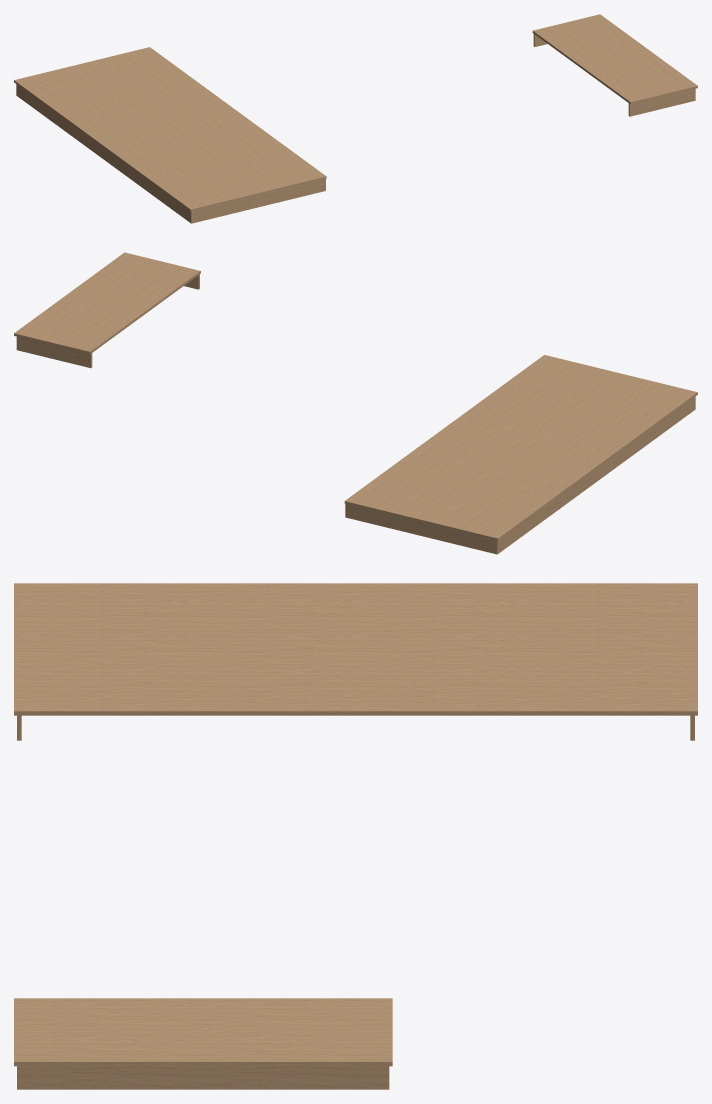
Rendered from Deck.glb.
3 views of the same model, one above another, from view 1: azimuth 30°, elevation 25°; view 2: azimuth 150°, elevation 25°; view 3: azimuth 270°, elevation 25° (orthographic). The views are drawn at different scales.
Parts seen in each view (by area): view 1: Interior_Light_Wood_Deck; view 2: Interior_Light_Wood_Deck; view 3: Interior_Light_Wood_Deck.
Boxes of the visible parts, x1,y1,x2,y2 form: Interior_Light_Wood_Deck: (14, 14, 697, 223); Interior_Light_Wood_Deck: (14, 252, 697, 554); Interior_Light_Wood_Deck: (14, 583, 697, 1089).
Size of the model in its own units: 3.61 by 0.1025 by 2.18.
1 material, 1 textured.
